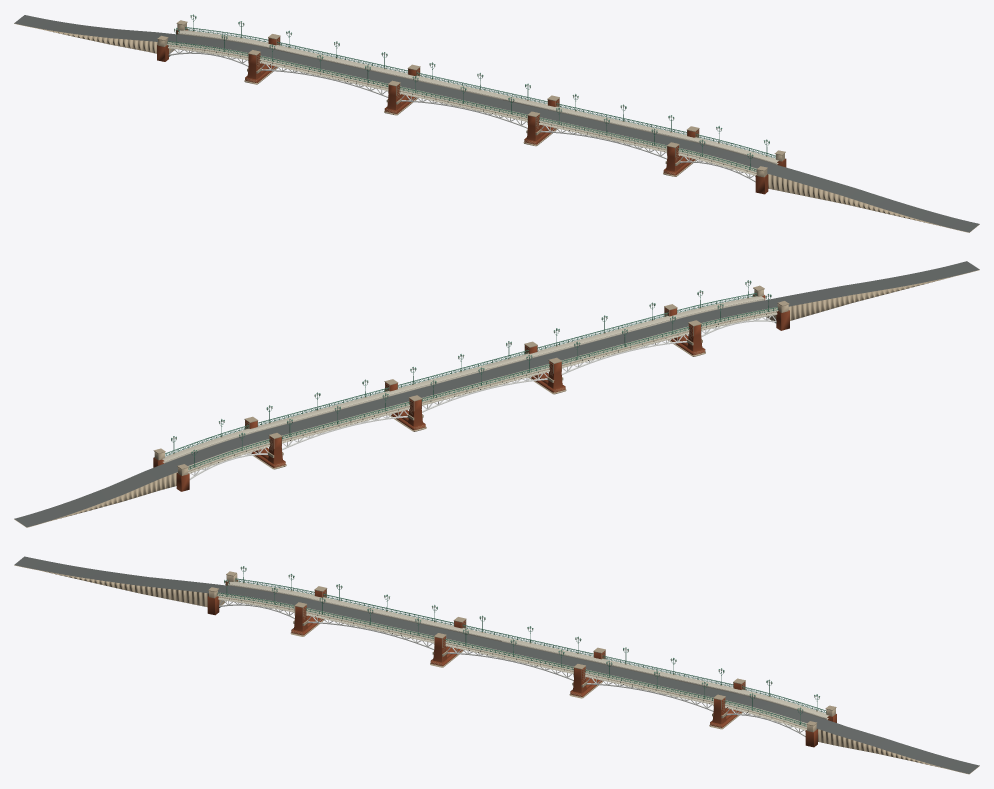
Rendered from pont-saint-pierre-near.glb.
The picture shows the model from 3 angles, top to bottom: view 1: azimuth 90°, elevation 25°; view 2: azimuth 150°, elevation 25°; view 3: azimuth 270°, elevation 25°; orthographic projection. The views are drawn at different scales.
Visible parts, largest first — view 1: pont-saint-pierre-0-asphalt, pont-saint-pierre-0-concrete, pont-saint-pierre-0-stone, pont-saint-pierre-0-rail, pont-saint-pierre-1-rail, pont-saint-pierre-1-stone, pont-saint-pierre-0-brick, pont-saint-pierre-1-brick, pont-saint-pierre-1-lattice, pont-saint-pierre-0-lattice; view 2: pont-saint-pierre-0-asphalt, pont-saint-pierre-0-concrete, pont-saint-pierre-0-stone, pont-saint-pierre-0-rail, pont-saint-pierre-1-rail, pont-saint-pierre-1-stone, pont-saint-pierre-1-brick, pont-saint-pierre-0-brick, pont-saint-pierre-1-lattice, pont-saint-pierre-0-lattice; view 3: pont-saint-pierre-0-asphalt, pont-saint-pierre-0-concrete, pont-saint-pierre-0-stone, pont-saint-pierre-0-rail, pont-saint-pierre-1-rail, pont-saint-pierre-1-stone, pont-saint-pierre-1-brick, pont-saint-pierre-0-brick, pont-saint-pierre-1-lattice, pont-saint-pierre-0-lattice.
Boxes of the visible parts, bbox=[...] form: pont-saint-pierre-0-asphalt: bbox=[14, 15, 979, 232]; pont-saint-pierre-0-concrete: bbox=[167, 30, 778, 175]; pont-saint-pierre-0-stone: bbox=[168, 45, 979, 232]; pont-saint-pierre-0-rail: bbox=[399, 72, 775, 171]; pont-saint-pierre-1-rail: bbox=[167, 14, 507, 108]; pont-saint-pierre-1-stone: bbox=[14, 20, 480, 115]; pont-saint-pierre-0-brick: bbox=[524, 99, 786, 194]; pont-saint-pierre-1-brick: bbox=[157, 29, 419, 113]; pont-saint-pierre-1-lattice: bbox=[169, 48, 488, 114]; pont-saint-pierre-0-lattice: bbox=[488, 113, 755, 182]; pont-saint-pierre-0-asphalt: bbox=[14, 261, 979, 527]; pont-saint-pierre-0-concrete: bbox=[162, 296, 778, 473]; pont-saint-pierre-0-stone: bbox=[188, 269, 979, 471]; pont-saint-pierre-0-rail: bbox=[398, 280, 777, 401]; pont-saint-pierre-1-rail: bbox=[165, 354, 507, 469]; pont-saint-pierre-1-stone: bbox=[14, 371, 461, 527]; pont-saint-pierre-1-brick: bbox=[153, 382, 425, 491]; pont-saint-pierre-0-brick: bbox=[525, 294, 789, 392]; pont-saint-pierre-1-lattice: bbox=[189, 383, 505, 479]; pont-saint-pierre-0-lattice: bbox=[505, 314, 776, 385]; pont-saint-pierre-0-asphalt: bbox=[14, 556, 979, 773]; pont-saint-pierre-0-concrete: bbox=[217, 581, 828, 730]; pont-saint-pierre-0-stone: bbox=[14, 565, 806, 728]; pont-saint-pierre-0-rail: bbox=[217, 566, 593, 669]; pont-saint-pierre-1-rail: bbox=[487, 626, 826, 726]; pont-saint-pierre-1-stone: bbox=[513, 642, 979, 774]; pont-saint-pierre-1-brick: bbox=[570, 651, 836, 747]; pont-saint-pierre-0-brick: bbox=[207, 580, 465, 666]; pont-saint-pierre-1-lattice: bbox=[489, 656, 805, 736]; pont-saint-pierre-0-lattice: bbox=[219, 599, 489, 657].
Size of the model in its own units: 180 by 15.05 by 338.
